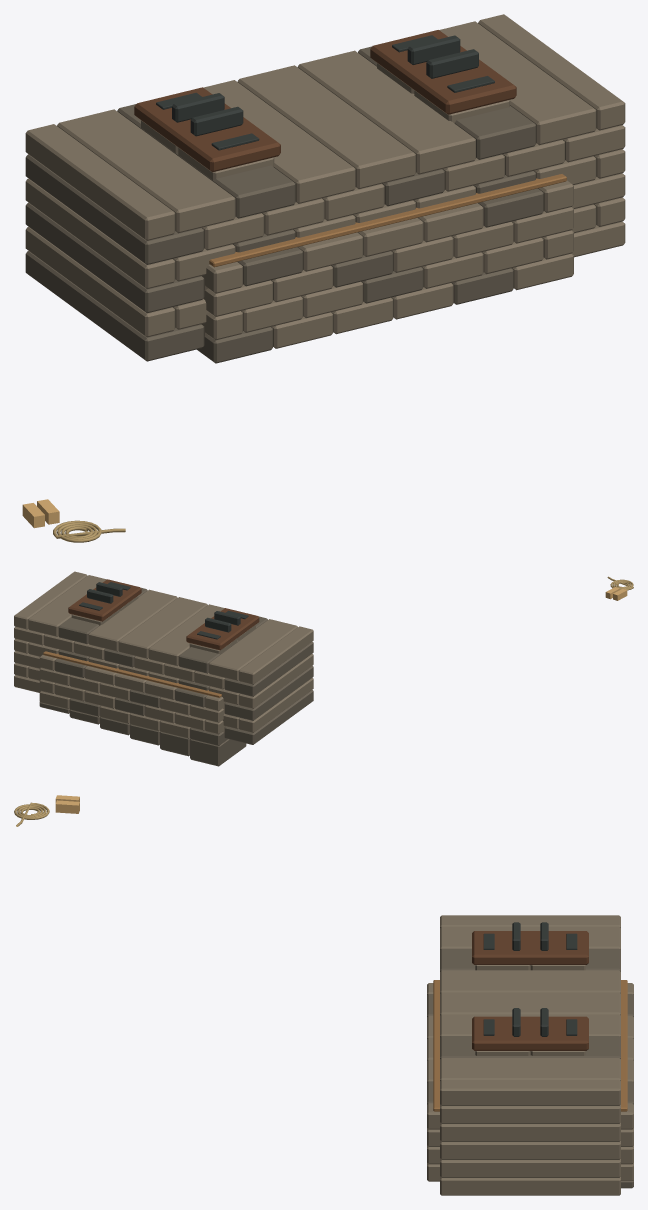
Rendered from parts.glb.
The picture shows the model from 3 angles, top to bottom: view 1: azimuth 30°, elevation 25°; view 2: azimuth 150°, elevation 25°; view 3: azimuth 270°, elevation 25°; orthographic projection. The views are drawn at different scales.
Visible parts, largest first — view 1: Heap44, Heap47, Heap48, Heap43, Heap50, Heap46, Seat49, Seat41, Heap01, Heap35, Heap18, Heap51 (+51 smaller); view 2: Heap47, Heap44, Heap48, Heap43, Heap50, Heap46, Seat49, Seat41, Heap18, Heap35, Heap01, Heap51 (+40 smaller); view 3: Heap51, Heap46, Heap47, Heap50, Seat49, Seat41, Heap08, Heap17, Heap25, Heap34, Heap42, Heap43 (+7 smaller).
Boxes of the visible parts, bbox=[...] form: Heap44: bbox=[57, 109, 235, 233]; Heap47: bbox=[237, 65, 415, 188]; Heap48: bbox=[297, 50, 475, 174]; Heap43: bbox=[25, 124, 175, 240]; Heap50: bbox=[439, 21, 596, 145]; Heap46: bbox=[203, 80, 355, 203]; Seat49: bbox=[370, 30, 516, 114]; Seat41: bbox=[134, 87, 280, 172]; Heap01: bbox=[25, 251, 204, 361]; Heap35: bbox=[25, 154, 204, 264]; Heap18: bbox=[25, 202, 204, 313]; Heap51: bbox=[478, 14, 625, 130]; Heap47: bbox=[118, 597, 207, 658]; Heap44: bbox=[209, 619, 297, 680]; Heap48: bbox=[88, 589, 177, 651]; Heap43: bbox=[239, 626, 313, 684]; Heap50: bbox=[28, 575, 106, 636]; Heap46: bbox=[148, 604, 224, 666]; Seat49: bbox=[68, 579, 141, 621]; Seat41: bbox=[186, 608, 259, 650]; Heap18: bbox=[224, 665, 313, 720]; Heap35: bbox=[224, 641, 313, 696]; Heap01: bbox=[224, 690, 313, 744]; Heap51: bbox=[14, 571, 87, 629]; Heap51: bbox=[440, 1080, 620, 1105]; Heap46: bbox=[440, 970, 620, 993]; Heap47: bbox=[440, 992, 620, 1015]; Heap50: bbox=[440, 1058, 620, 1080]; Seat49: bbox=[472, 1016, 588, 1050]; Seat41: bbox=[472, 931, 588, 964]; Heap08: bbox=[440, 1176, 620, 1195]; Heap17: bbox=[440, 1158, 620, 1177]; Heap25: bbox=[440, 1140, 620, 1159]; Heap34: bbox=[440, 1122, 620, 1141]; Heap42: bbox=[440, 1104, 620, 1123]; Heap43: bbox=[440, 915, 620, 927].
Size of the model in its own units: 14.12 by 3.71 by 11.98.
